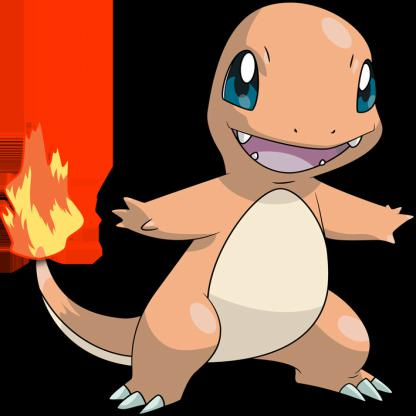Charmander: (6, 1, 416, 416)
